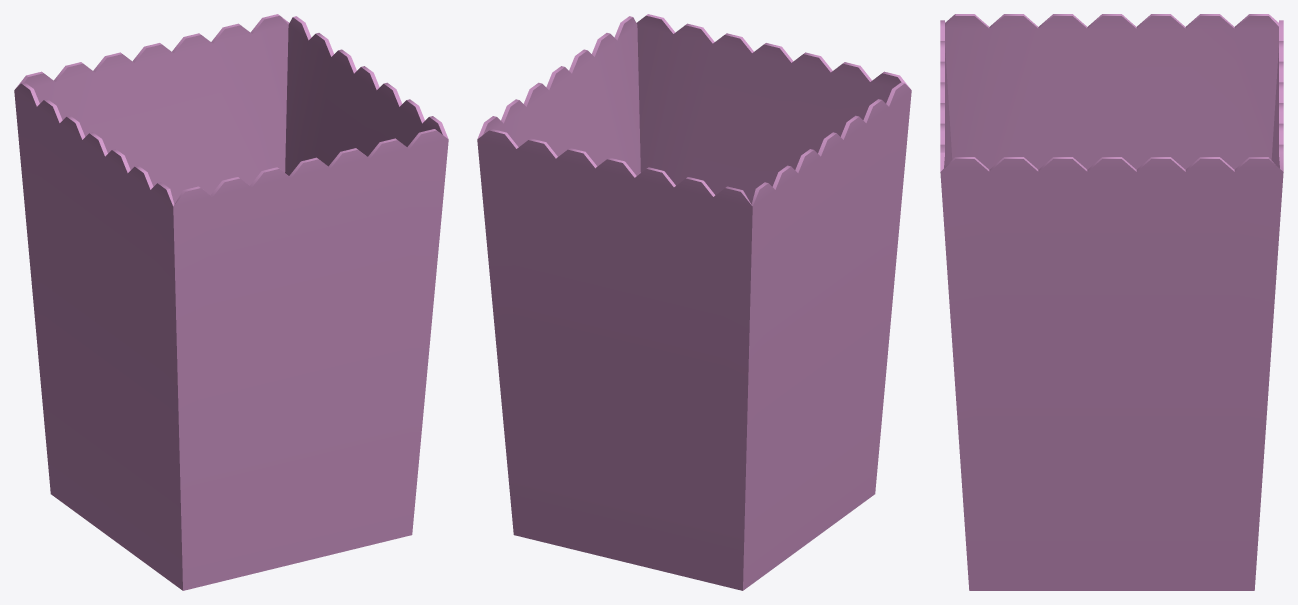
File: Popcorn_02.FBX
The picture shows the model from 3 angles, left to right: view 1: azimuth 30°, elevation 25°; view 2: azimuth 150°, elevation 25°; view 3: azimuth 270°, elevation 25°; orthographic projection. The views are drawn at different scales.
Visible parts, largest first — view 1: Popcorn_02; view 2: Popcorn_02; view 3: Popcorn_02.
Part boxes in pixels (box(x1,y1,x2,y2)): Popcorn_02: box(14, 14, 448, 590); Popcorn_02: box(477, 14, 911, 590); Popcorn_02: box(940, 14, 1283, 590).
Bounding box in the file's own units: 14.43 × 20.6 × 14.43.
